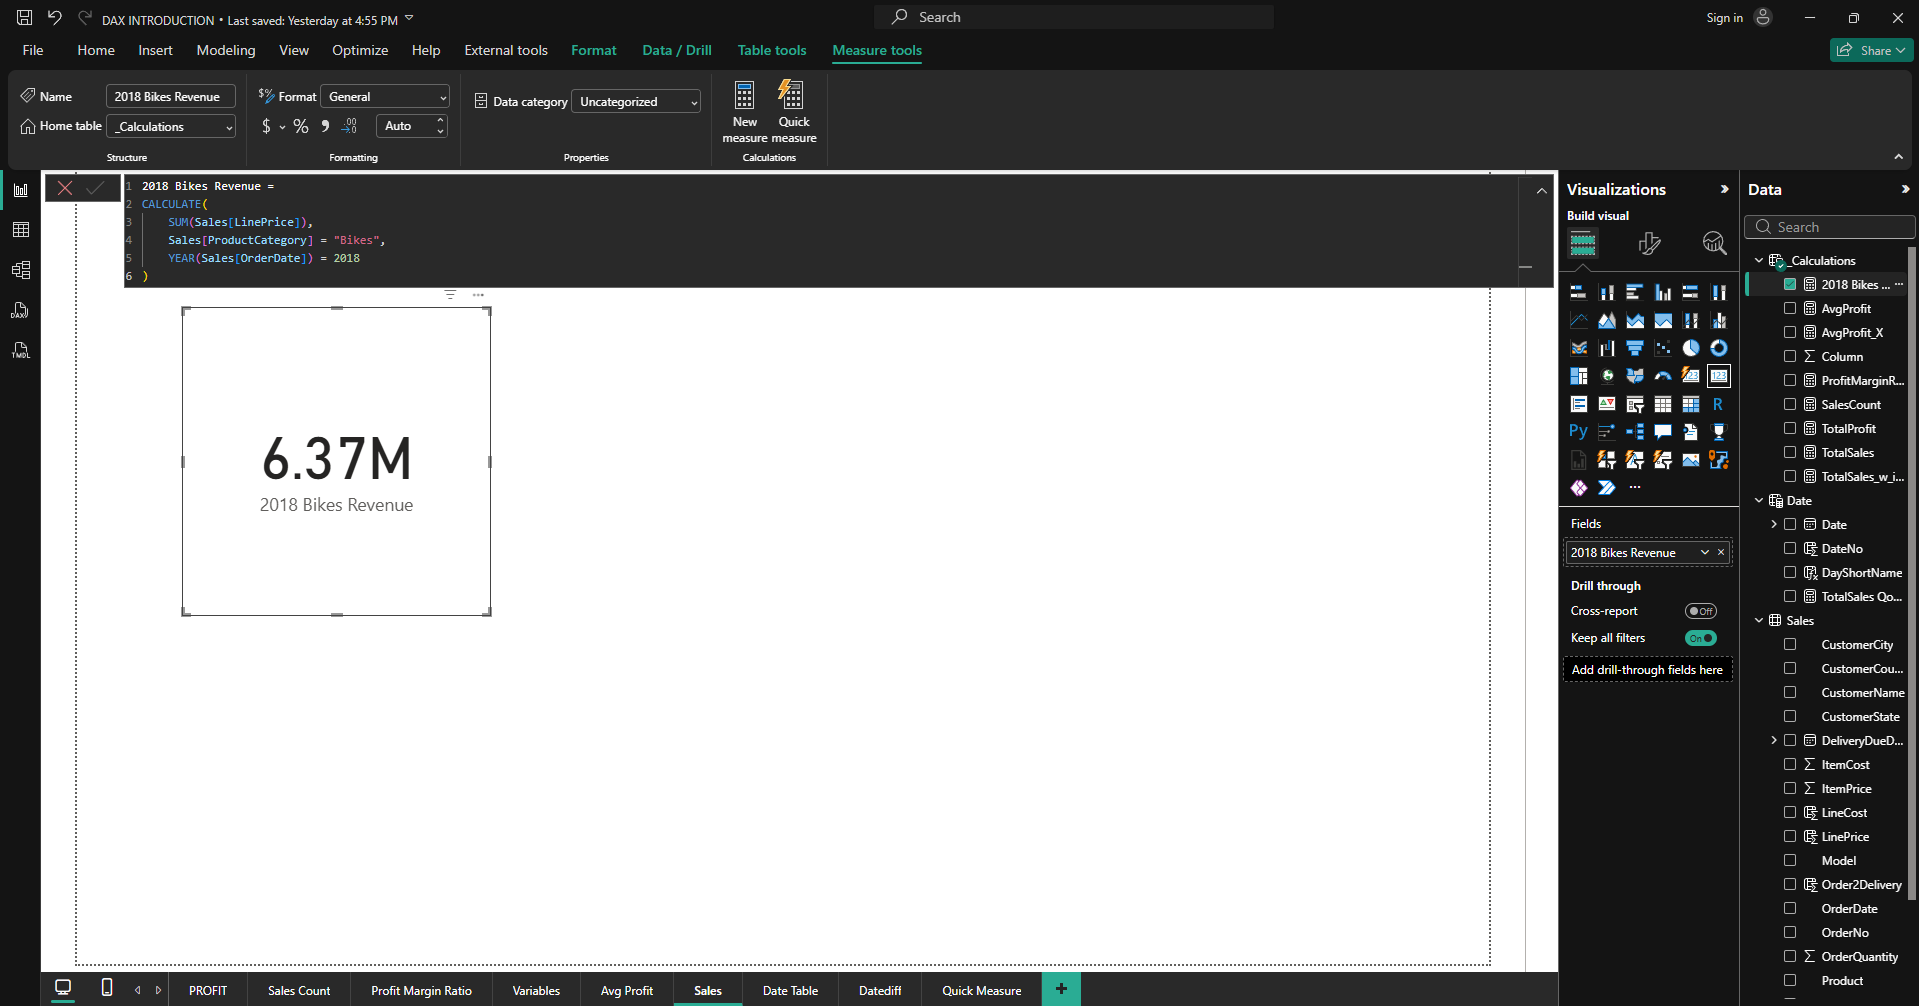

This screenshot's page, from the dashboard's own definition file:
{"tool":"powerbi","page":{"name":"Sales","canvas":[1280,720],"ordinal":5},"visuals":[{"type":"card","fields":{"Values":["_Calculations.2018 Bikes Revenue"]},"box":[10,0,280,280],"z":0}]}

Visuals, with their boxes on the page's 1280x720 design canvas (x1, y1, x2, y2). These are canvas units, not pixel positions in the 1919x1006 screenshot, which may show the page scaled, cropped or inside an application window:
card - _Calculations.2018 Bikes Revenue: 10:0:290:280
